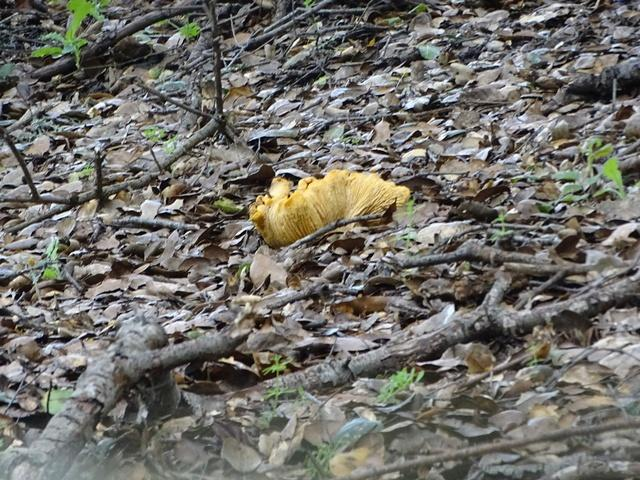edible_mushroom: (248, 167, 411, 248)
